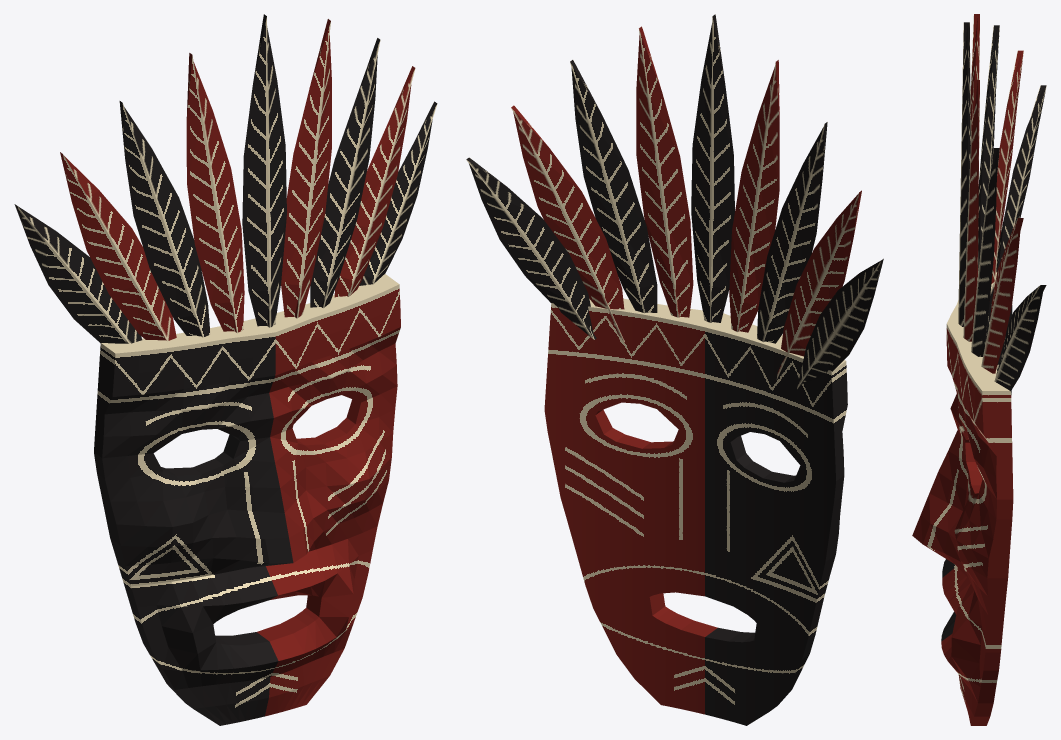
Rendered from mascara-ticuna.glb.
The picture shows the model from 3 angles, left to right: view 1: azimuth 30°, elevation 25°; view 2: azimuth 150°, elevation 25°; view 3: azimuth 270°, elevation 25°; orthographic projection. The views are drawn at different scales.
Parts seen in each view (by area): view 1: mascara-ticuna; view 2: mascara-ticuna; view 3: mascara-ticuna.
Part boxes in pixels (<box>): mascara-ticuna: <box>14,14,437,725</box>; mascara-ticuna: <box>466,14,883,725</box>; mascara-ticuna: <box>912,14,1046,725</box>.
Size of the model in its own units: 0.2129 by 0.34 by 0.0607.
Materials: 1 (1 with a texture image).
